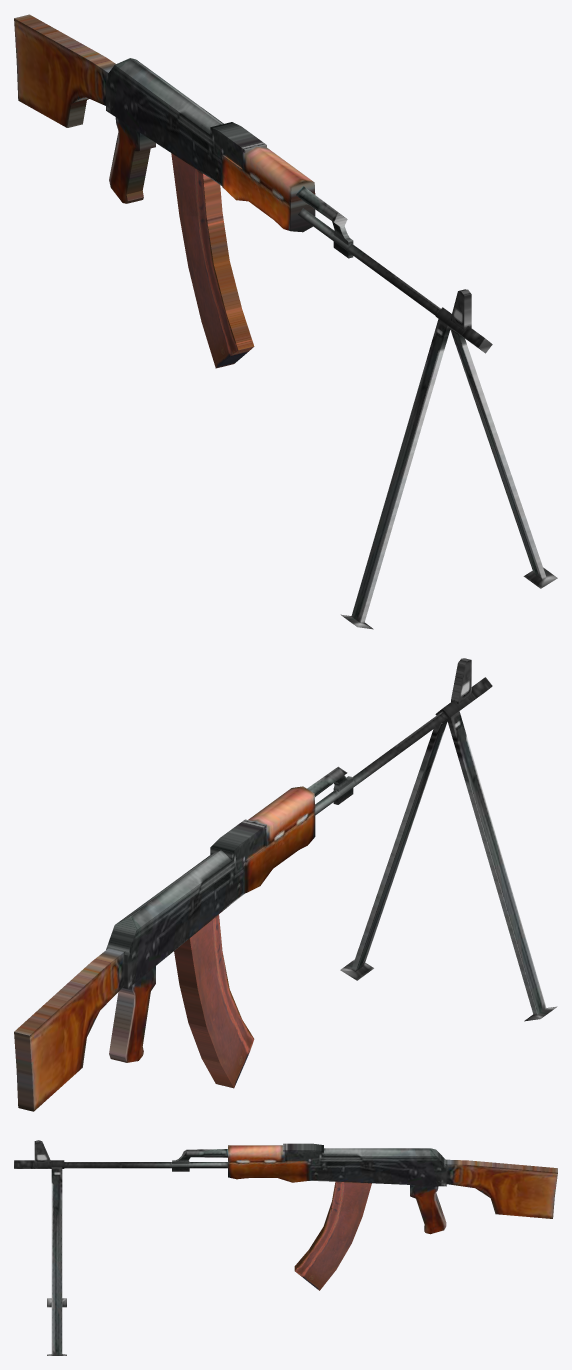
Rendered from RPK74.FBX.
The picture shows the model from 3 angles, top to bottom: view 1: azimuth 30°, elevation 25°; view 2: azimuth 150°, elevation 25°; view 3: azimuth 270°, elevation 25°; orthographic projection. The views are drawn at different scales.
Parts seen in each view (by area): view 1: RPK74; view 2: RPK74; view 3: RPK74.
Boxes of the visible parts, x1,y1,x2,y2 form: RPK74: [14, 14, 557, 629]; RPK74: [14, 658, 557, 1111]; RPK74: [14, 1140, 557, 1355].
Bounding box in the file's own units: 9.55 × 14.71 × 38.21.
